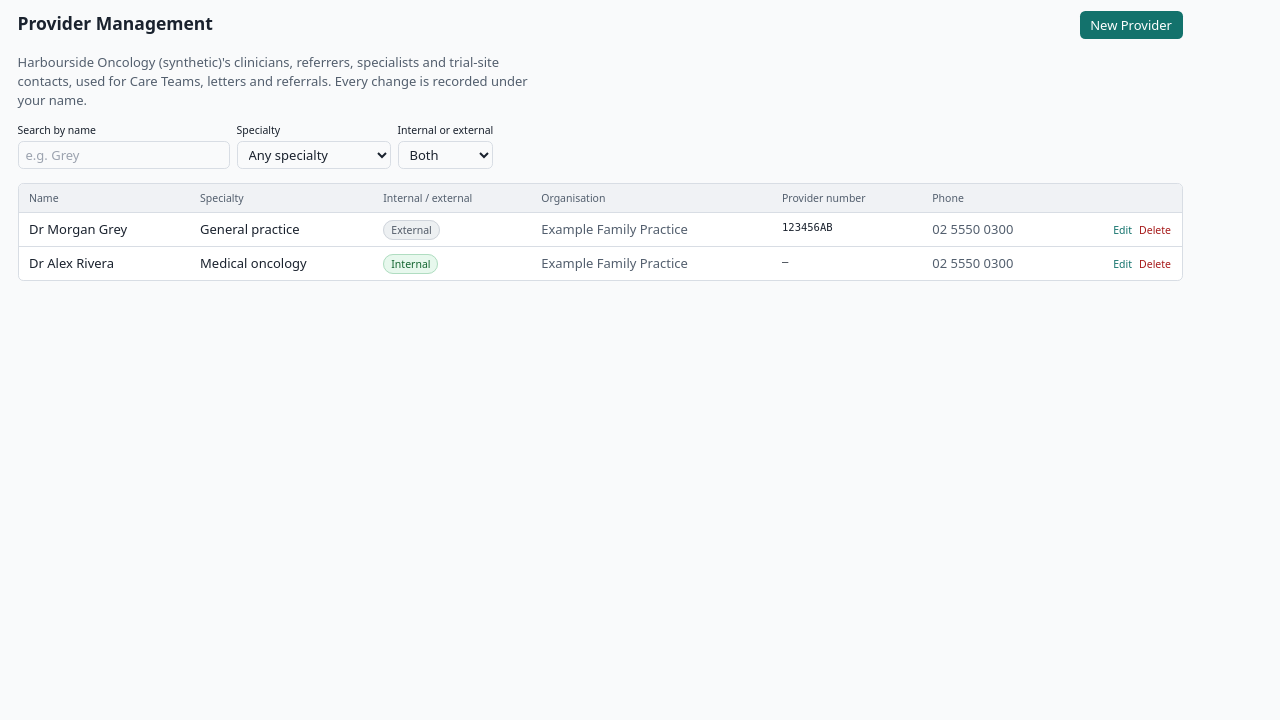
Test: Provider Management › shows why a duplicate provider number was refused
Click the button "New Provider" at (1131, 25), box [1080,11,1182,39]
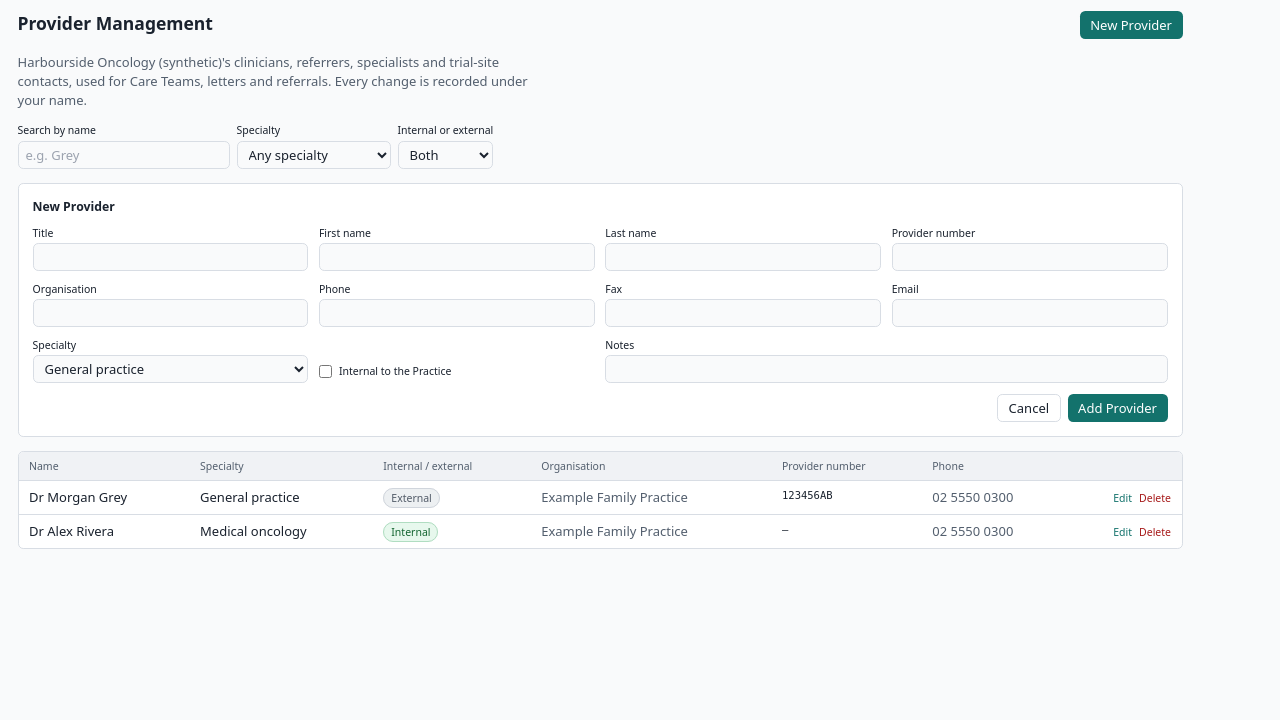
Type "Sam" into the field labelled "First name" at (457, 258), box [319,244,595,272]
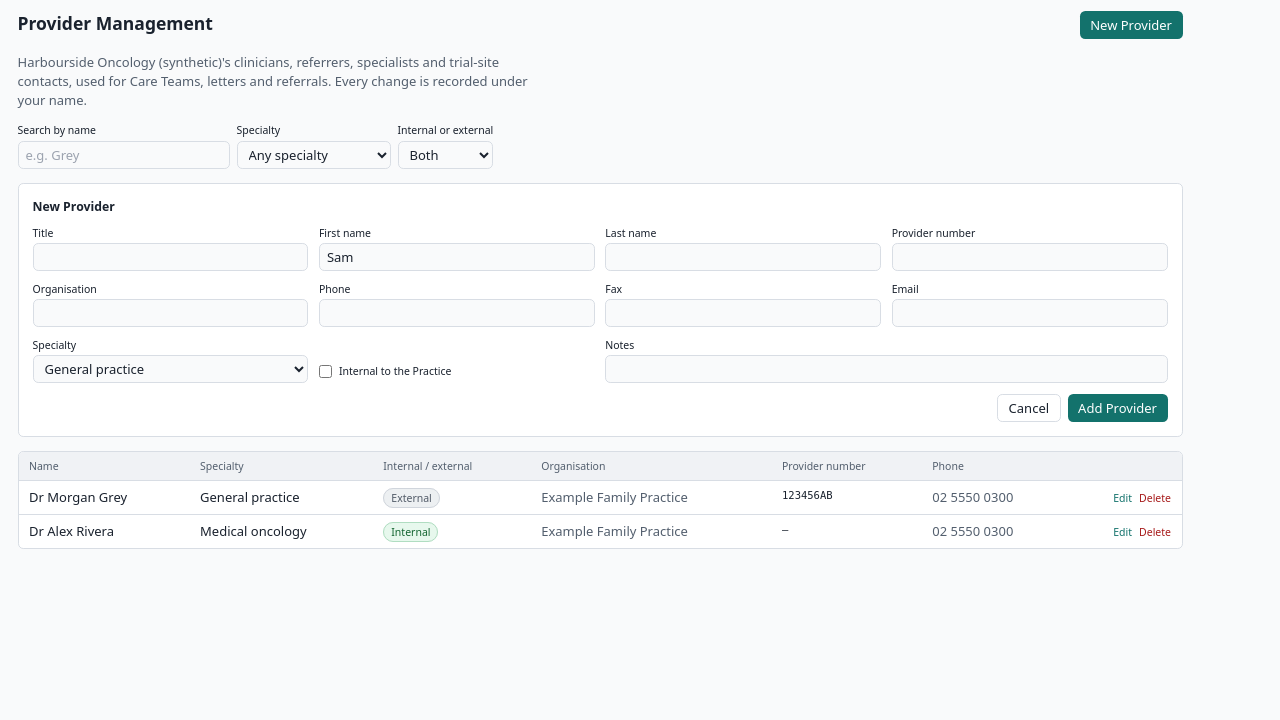
Type "Other" into the field labelled "Last name" at (743, 258), box [605,244,881,272]
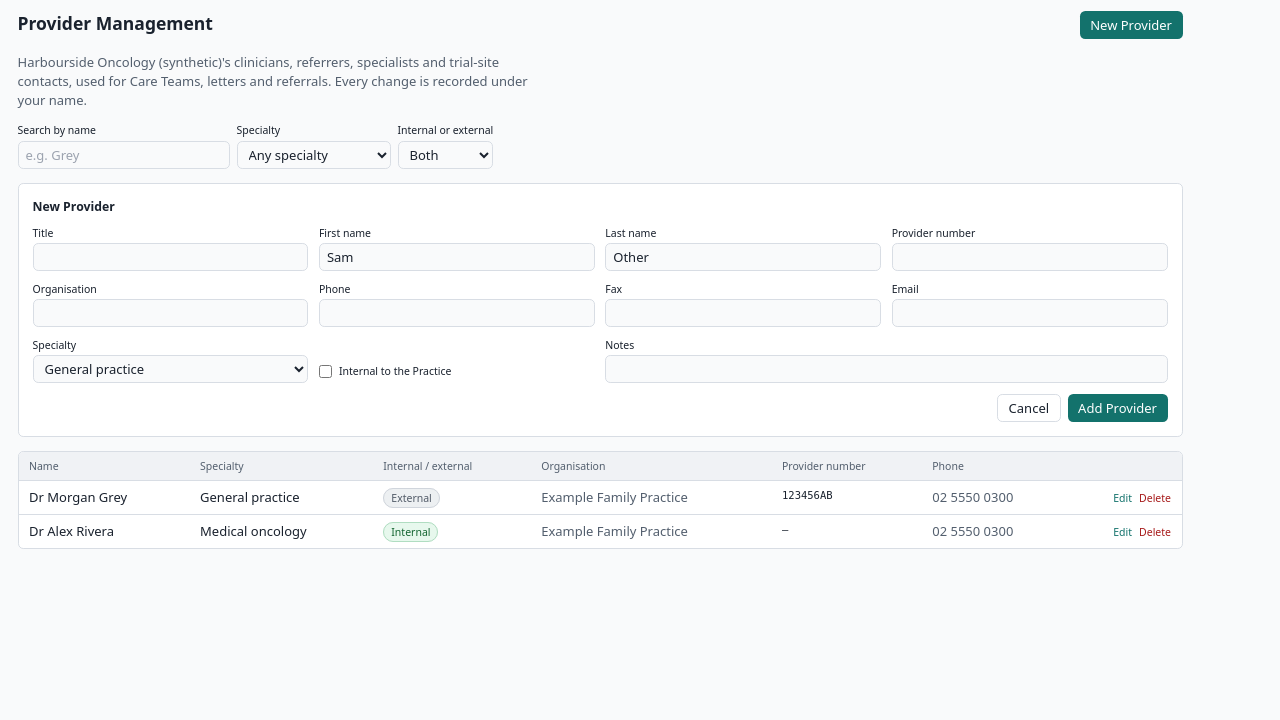
Type "123456AB" into the field labelled "Provider number" at (1030, 258), box [892,244,1168,272]
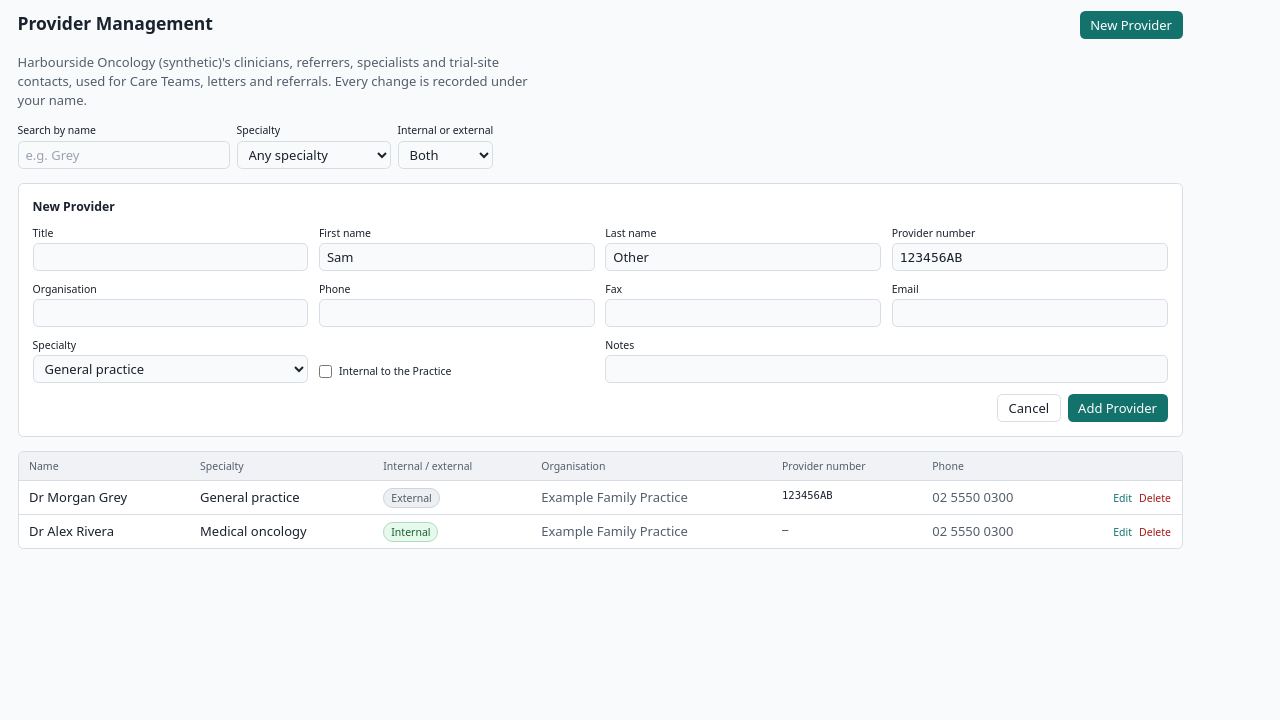
Submit the form "New Provider", box [18,183,1182,437]
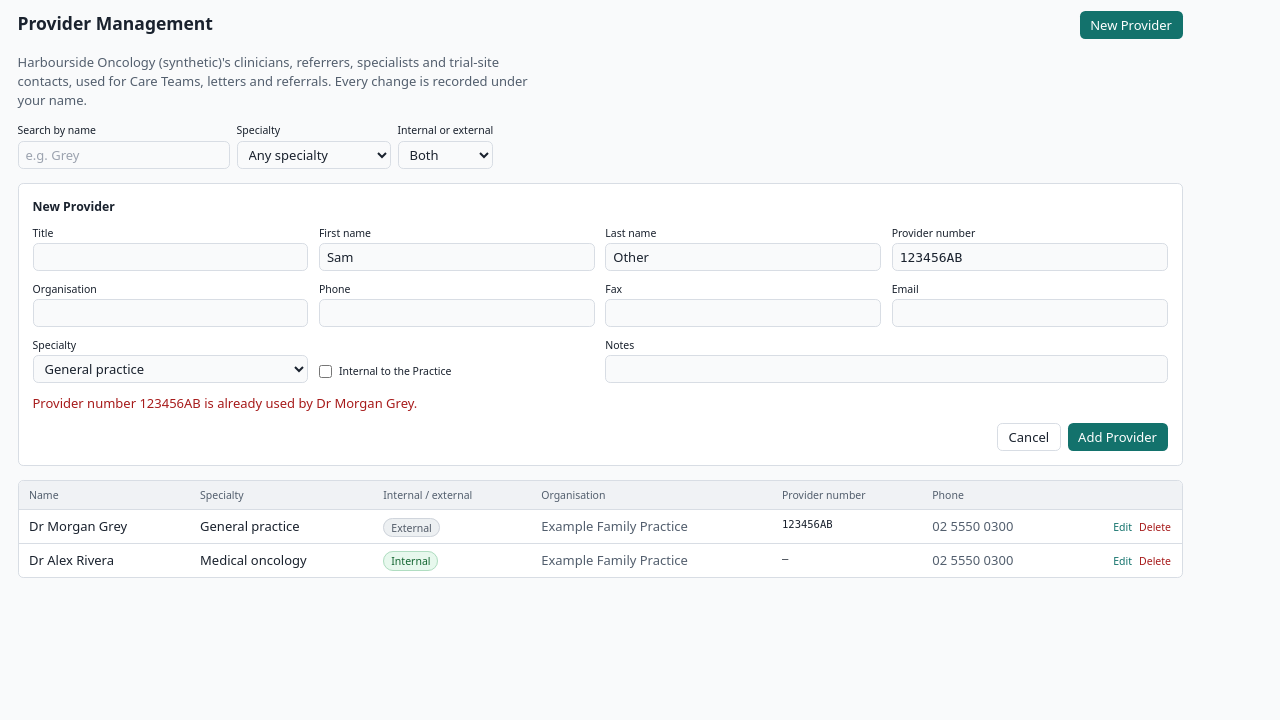
Result: the message shows "already used by Dr Morgan Grey" at [32,394,417,412]
